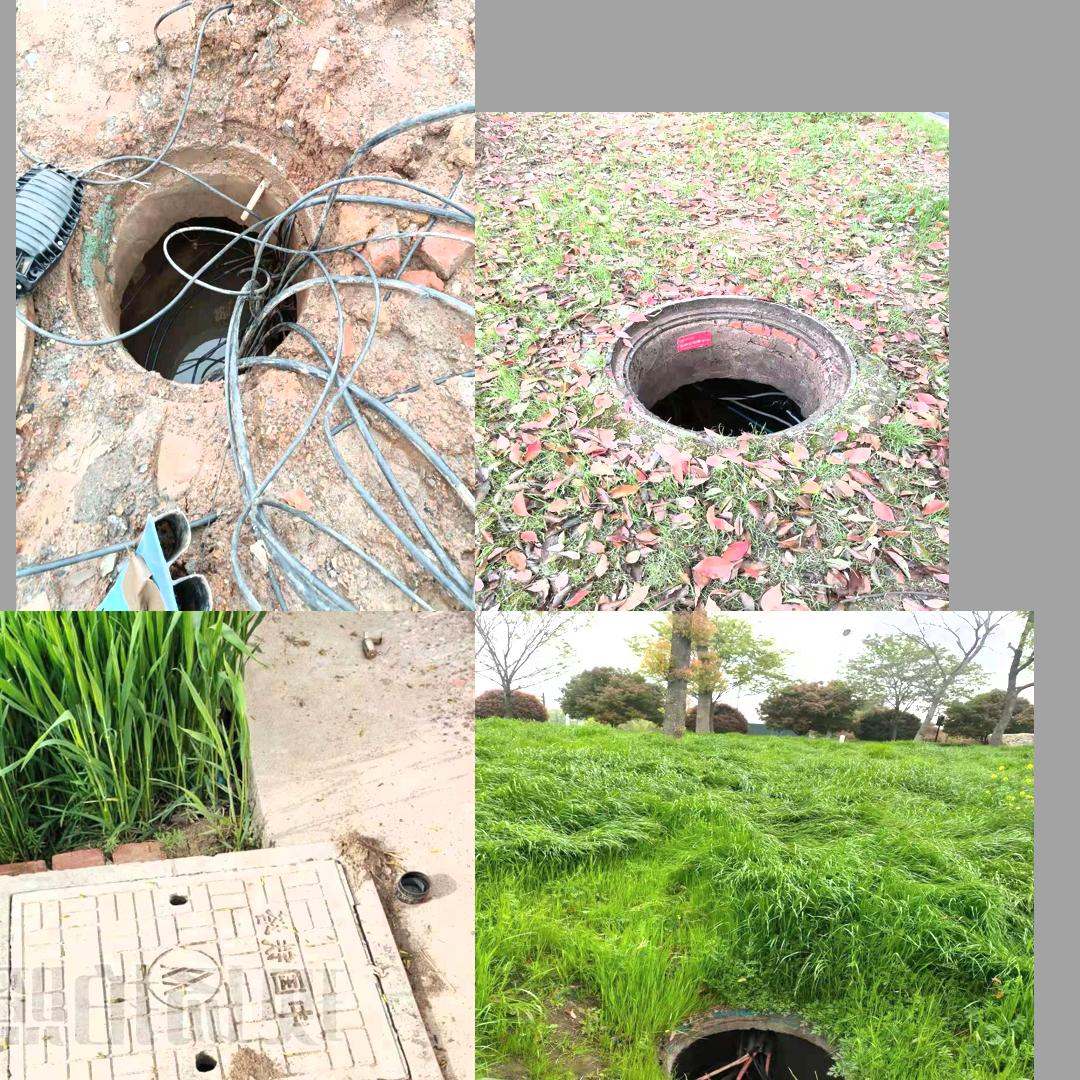lose: (0, 825, 445, 1080), (69, 136, 329, 393), (603, 294, 856, 442), (651, 1015, 849, 1080)
